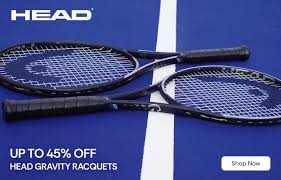tennis racket: (2, 63, 279, 128), (1, 39, 251, 95)
